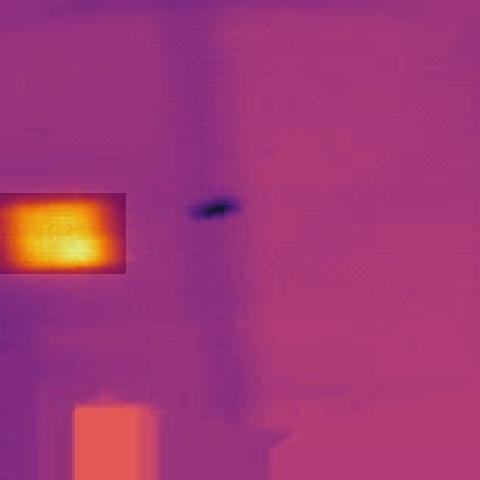fault: (0, 193, 126, 274)
